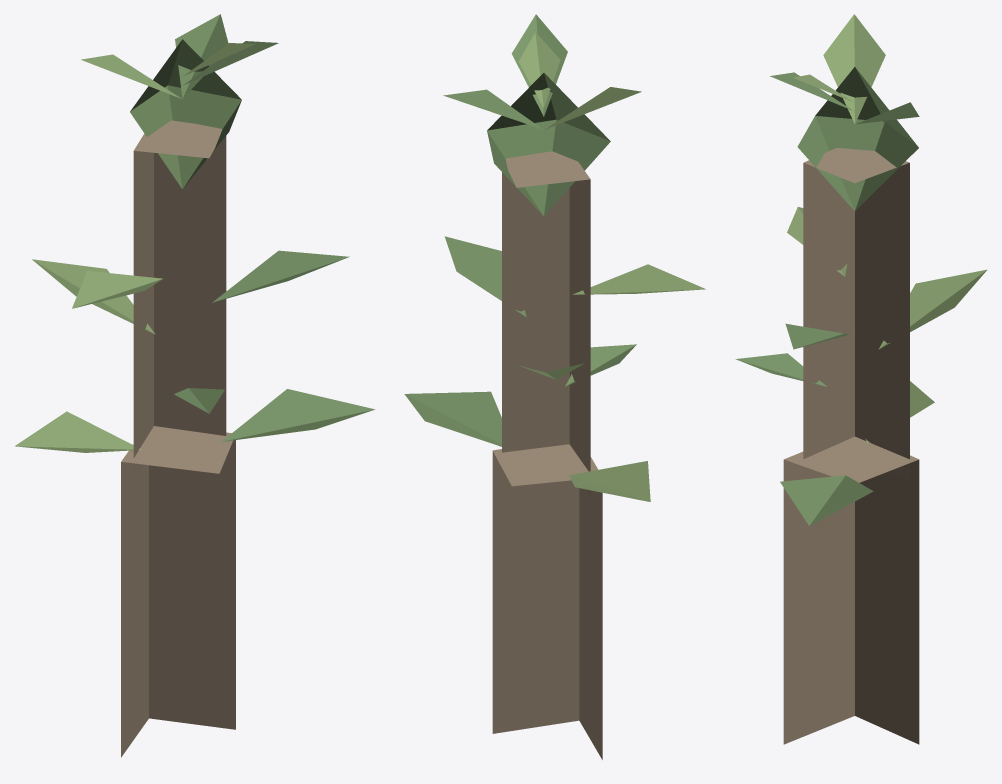
Rendered from shu.yezi@seedling__summer.glb.
The picture shows the model from 3 angles, left to right: view 1: azimuth 30°, elevation 25°; view 2: azimuth 150°, elevation 25°; view 3: azimuth 270°, elevation 25°; orthographic projection. The views are drawn at different scales.
Visible parts, largest first — view 1: shu.yezi@seedling__summer; view 2: shu.yezi@seedling__summer; view 3: shu.yezi@seedling__summer.
Part boxes in pixels (bbox=[...]): shu.yezi@seedling__summer: bbox=[15, 14, 375, 757]; shu.yezi@seedling__summer: bbox=[404, 14, 705, 759]; shu.yezi@seedling__summer: bbox=[735, 14, 986, 744].
Size of the model in its own units: 0.4278 by 0.9492 by 0.3134.
